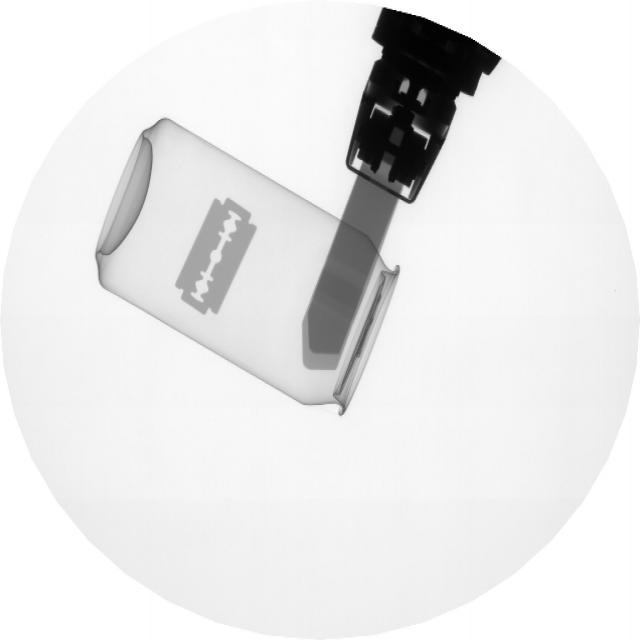BLADE: (174, 189, 267, 325)
